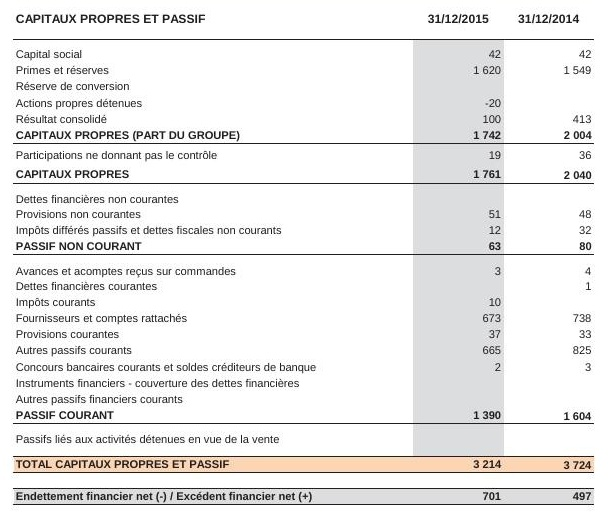table: (0, 0, 608, 518)
